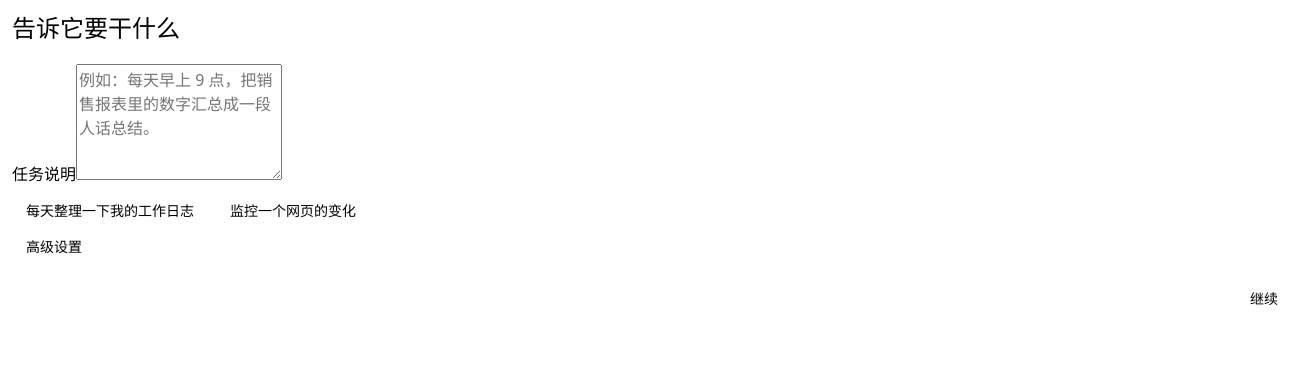
Scenario: TaskStep › 空任务说明拦截继续
This screenshot has width=1304, height=391.
Click the button "继续".
click(1264, 299)  # box x1=1236 y1=281 x2=1292 y2=317
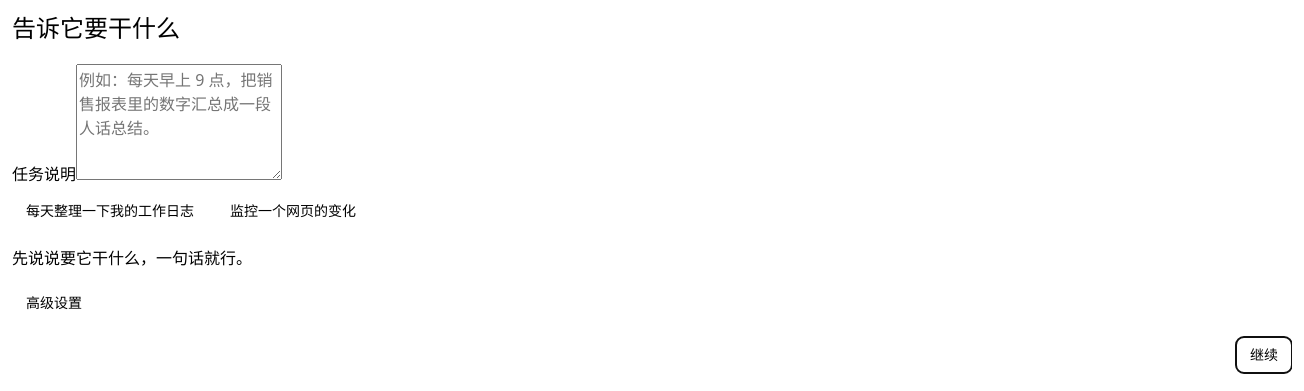
Check: the message shows "先说说要它干什么", box x1=12 y1=247 x2=252 y2=269
